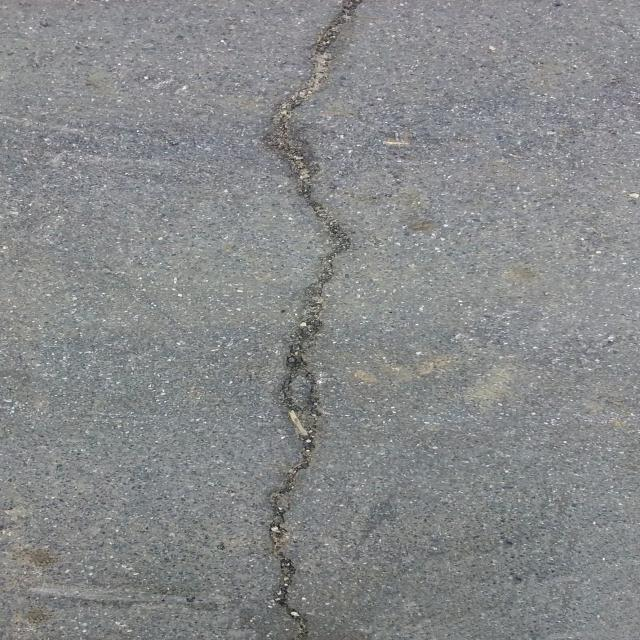Crack: (262, 0, 363, 640), (304, 372, 316, 406)
